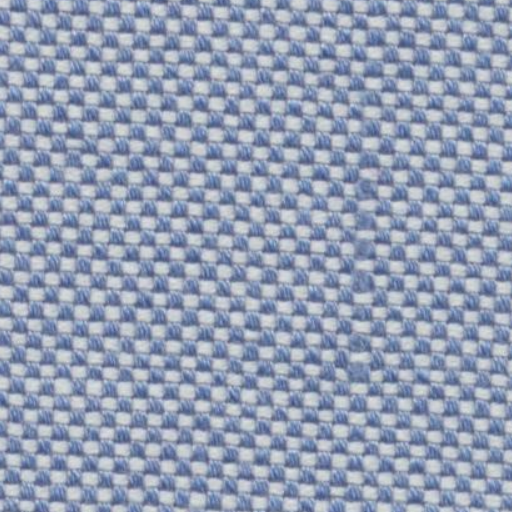TuoSha: (334, 22, 396, 479)
